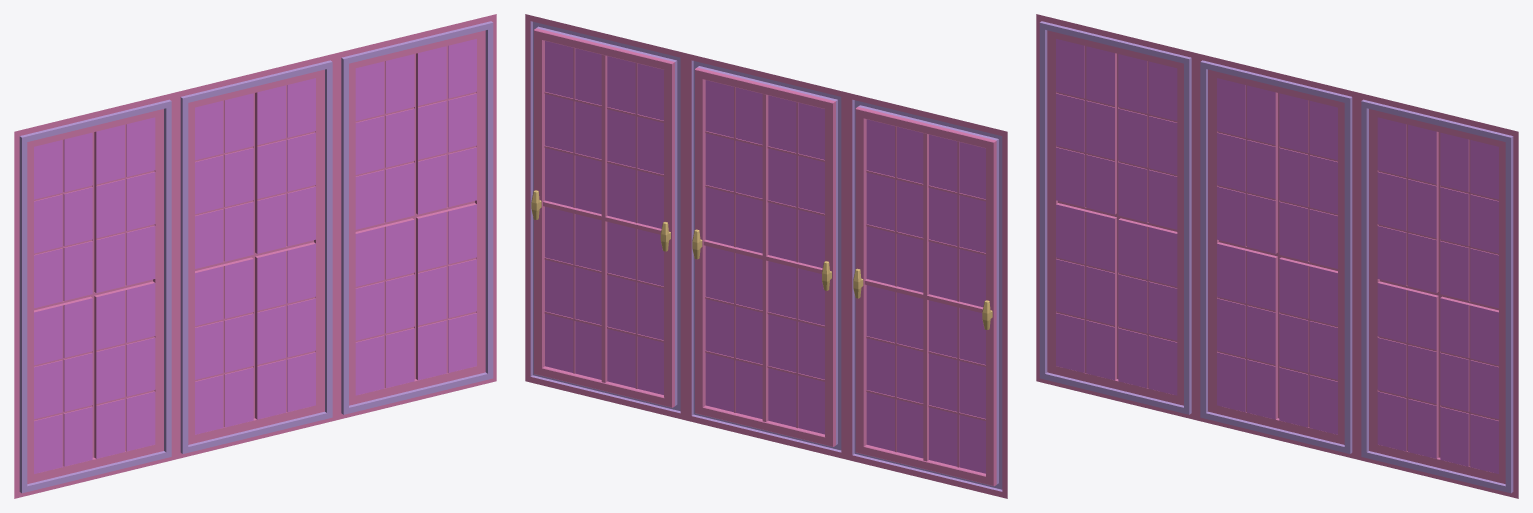
The model's file is windows.fbx.
3 views of the same model, side by side, from view 1: azimuth 30°, elevation 25°; view 2: azimuth 150°, elevation 25°; view 3: azimuth 330°, elevation 25° (orthographic).
Parts seen in each view (by area): view 1: windows; view 2: windows; view 3: windows.
Part boxes in pixels (x1,y1,x2,y2): windows: (14,14,496,498); windows: (525,14,1007,498); windows: (1036,14,1518,498).
Size of the model in its own units: 236 by 172 by 7.95.
